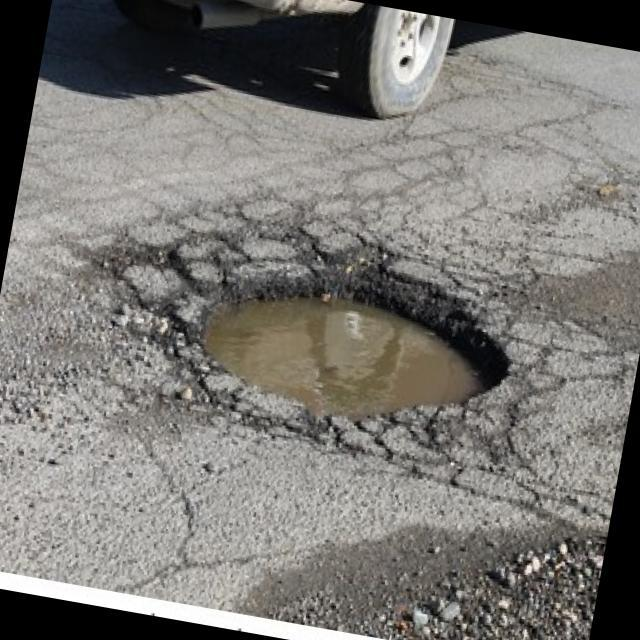Pothole: (165, 238, 528, 454)
